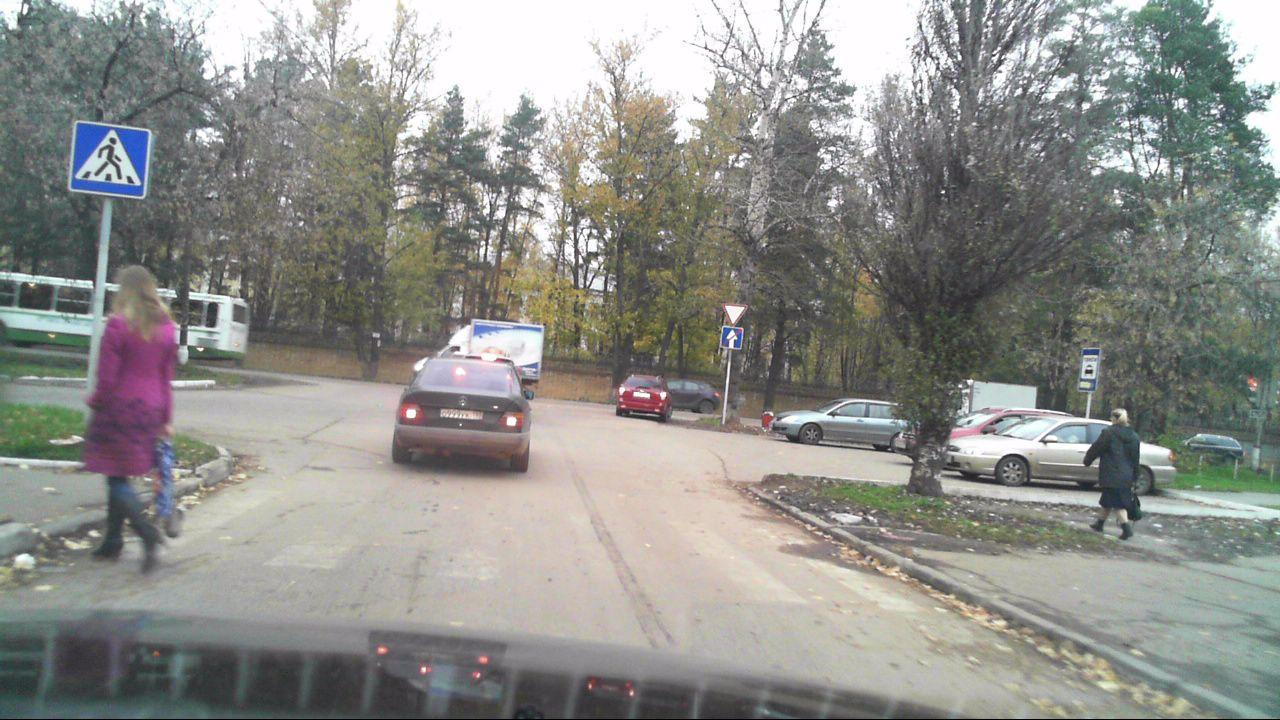2_4: (722, 301, 747, 327)
5_18: (1077, 348, 1101, 393)
5_19_2: (66, 120, 154, 199)
5_6: (720, 327, 743, 349)
6_16: (1248, 409, 1269, 420)
